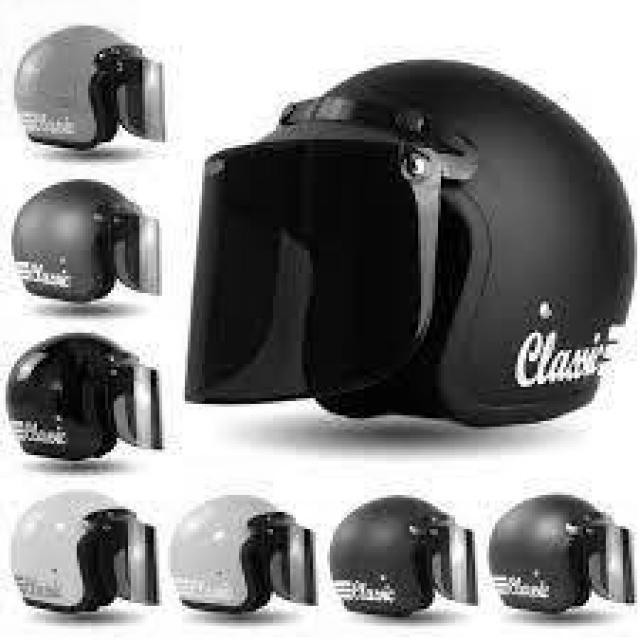Helmet: (190, 57, 633, 419), (11, 27, 160, 627), (168, 490, 640, 625)
